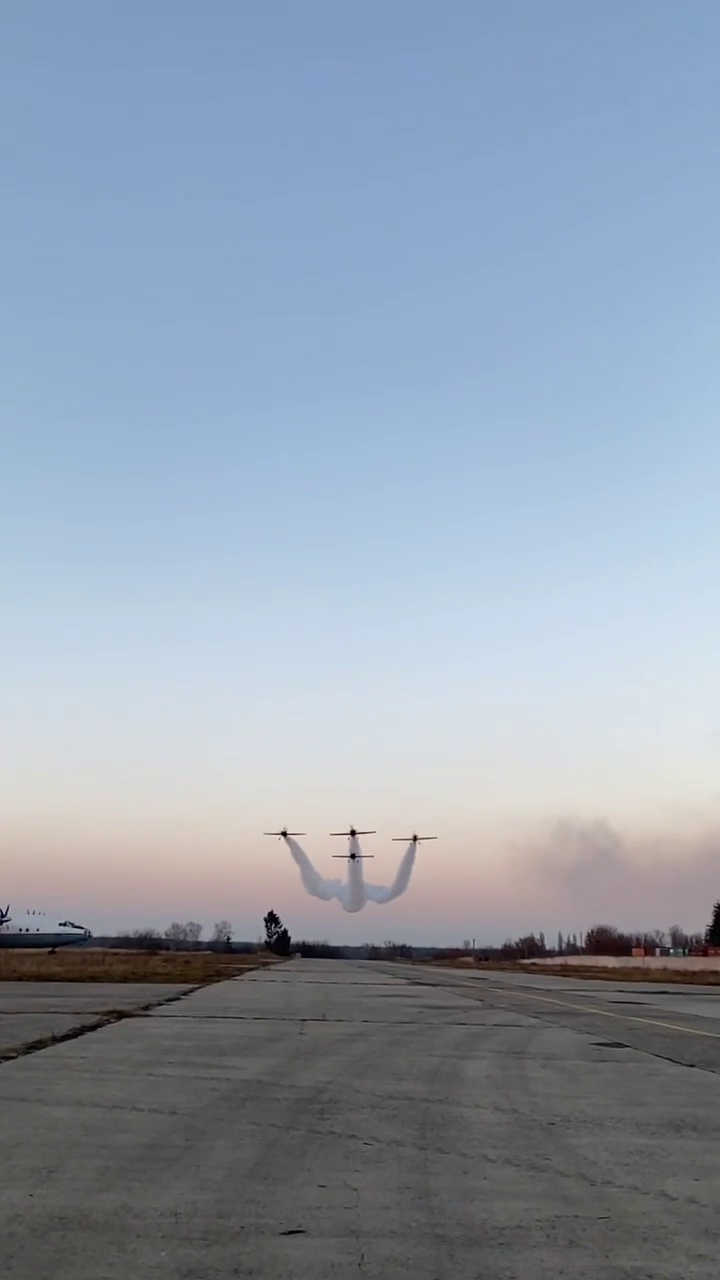plane: (0, 907, 91, 955), (332, 846, 376, 863), (330, 825, 378, 840), (391, 829, 436, 845), (263, 826, 310, 839)
